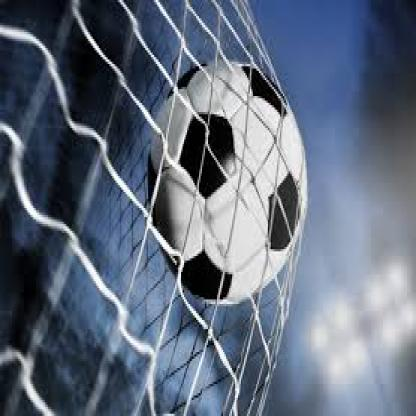ball: (147, 60, 308, 307)
